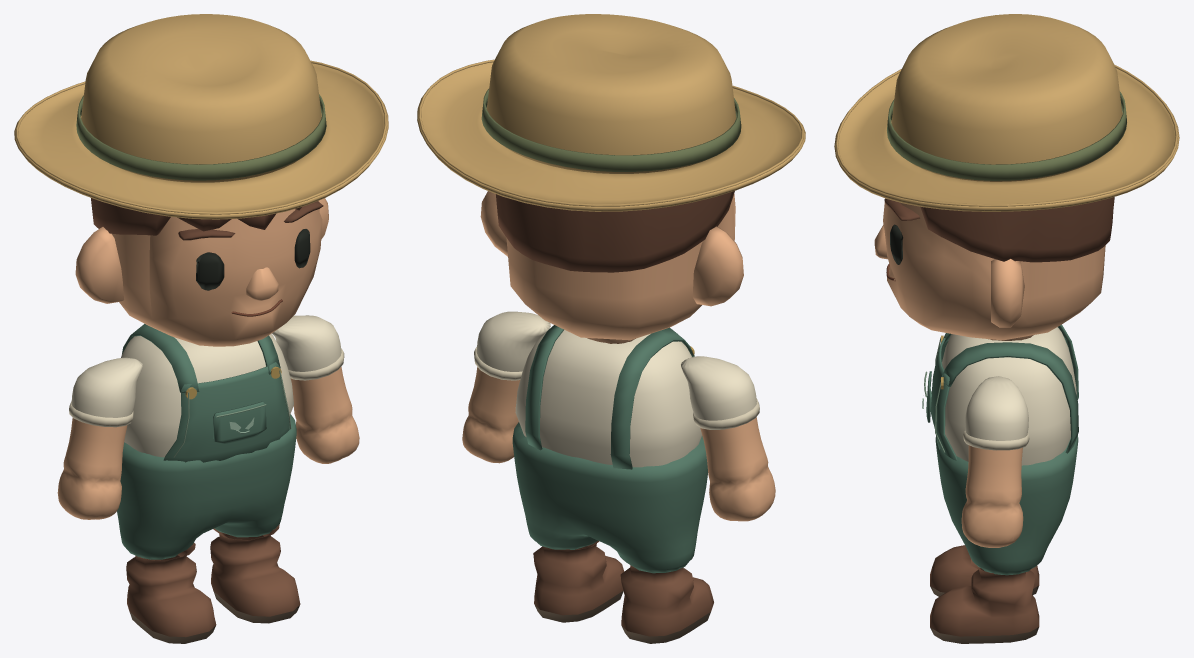
The model's file is gardener-v040.glb.
The picture shows the model from 3 angles, left to right: view 1: azimuth 30°, elevation 25°; view 2: azimuth 150°, elevation 25°; view 3: azimuth 270°, elevation 25°; orthographic projection. The views are drawn at different scales.
Visible parts, largest first — view 1: Straw crown • shaped shoulder and shallow top, Face and ears • adapted KayKit topology, Straw brim • cambered oval with rolled lip, Overalls • continuous waist seat crotch and legs, Shirt • shaped shoulder and torso mesh, Bib • fitted curved denim, Boot 1 • adapted KayKit mesh, Boot -1 • adapted KayKit mesh, Arm R • mirrored continuous forearm, Arm L • KayKit hand and continuous forearm, Hat ribbon • fitted olive band, Sleeve -1 (+9 smaller); view 2: Straw crown • shaped shoulder and shallow top, Straw brim • cambered oval with rolled lip, Overalls • continuous waist seat crotch and legs, Shirt • shaped shoulder and torso mesh, Face and ears • adapted KayKit topology, Hair • short tapered tousled cap, Boot 1 • adapted KayKit mesh, Boot -1 • adapted KayKit mesh, Arm R • mirrored continuous forearm, Hat ribbon • fitted olive band, Arm L • KayKit hand and continuous forearm, Sleeve -1 (+5 smaller); view 3: Straw crown • shaped shoulder and shallow top, Straw brim • cambered oval with rolled lip, Face and ears • adapted KayKit topology, Shirt • shaped shoulder and torso mesh, Hair • short tapered tousled cap, Overalls • continuous waist seat crotch and legs, Boot 1 • adapted KayKit mesh, Arm L • KayKit hand and continuous forearm, Hat ribbon • fitted olive band, Sleeve 1, Shoulder strap 1, Boot -1 • adapted KayKit mesh (+3 smaller).
Part boxes in pixels (x1,y1,x2,y2): Straw crown • shaped shoulder and shallow top: [81, 14, 321, 182]; Face and ears • adapted KayKit topology: [75, 198, 328, 346]; Straw brim • cambered oval with rolled lip: [14, 63, 388, 219]; Overalls • continuous waist seat crotch and legs: [117, 414, 296, 559]; Shirt • shaped shoulder and torso mesh: [121, 334, 293, 457]; Bib • fitted curved denim: [163, 362, 289, 462]; Boot 1 • adapted KayKit mesh: [210, 524, 300, 623]; Boot -1 • adapted KayKit mesh: [126, 543, 216, 643]; Arm R • mirrored continuous forearm: [57, 418, 127, 519]; Arm L • KayKit hand and continuous forearm: [290, 366, 359, 463]; Hat ribbon • fitted olive band: [76, 94, 326, 180]; Sleeve -1: [71, 357, 142, 417]; Straw crown • shaped shoulder and shallow top: [486, 14, 736, 173]; Straw brim • cambered oval with rolled lip: [417, 62, 805, 211]; Overalls • continuous waist seat crotch and legs: [512, 422, 707, 573]; Shirt • shaped shoulder and torso mesh: [515, 330, 702, 467]; Face and ears • adapted KayKit topology: [480, 191, 743, 340]; Hair • short tapered tousled cap: [496, 191, 734, 272]; Boot 1 • adapted KayKit mesh: [533, 540, 624, 622]; Boot -1 • adapted KayKit mesh: [620, 565, 713, 643]; Arm R • mirrored continuous forearm: [700, 417, 775, 521]; Hat ribbon • fitted olive band: [481, 88, 741, 171]; Arm L • KayKit hand and continuous forearm: [462, 367, 520, 463]; Sleeve -1: [681, 356, 756, 420]; Straw crown • shaped shoulder and shallow top: [891, 14, 1122, 181]; Straw brim • cambered oval with rolled lip: [834, 68, 1179, 211]; Face and ears • adapted KayKit topology: [874, 198, 1105, 340]; Shirt • shaped shoulder and torso mesh: [942, 327, 1076, 465]; Hair • short tapered tousled cap: [920, 197, 1114, 262]; Overalls • continuous waist seat crotch and legs: [935, 435, 1078, 575]; Boot 1 • adapted KayKit mesh: [930, 559, 1039, 643]; Arm L • KayKit hand and continuous forearm: [961, 445, 1023, 547]; Hat ribbon • fitted olive band: [887, 91, 1126, 180]; Sleeve 1: [965, 376, 1028, 440]; Shoulder strap 1: [940, 342, 1078, 453]; Boot -1 • adapted KayKit mesh: [930, 545, 1039, 596].
Bounding box in the file's own units: 1.46 × 2.31 × 1.3.
